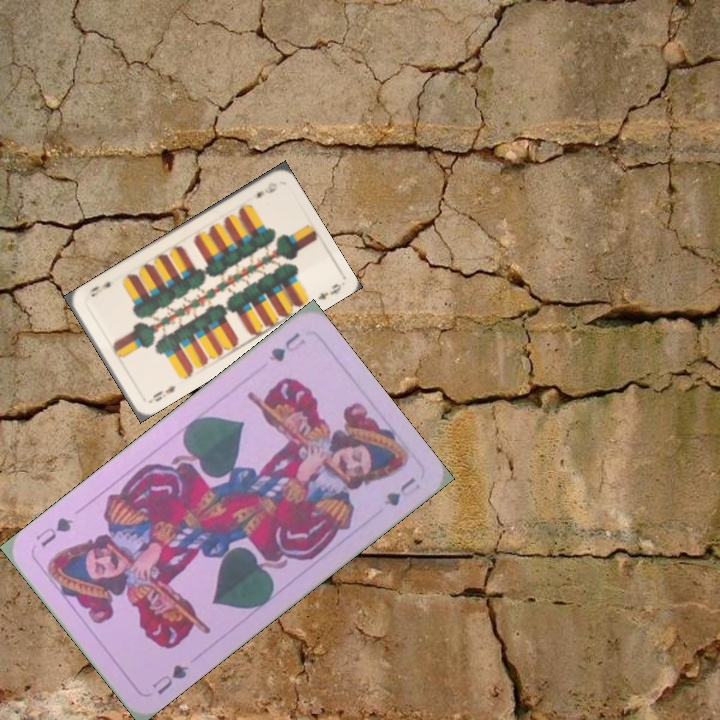E9: (145, 381, 178, 406), (252, 178, 280, 201)
GU: (148, 660, 191, 698), (265, 328, 308, 365)
